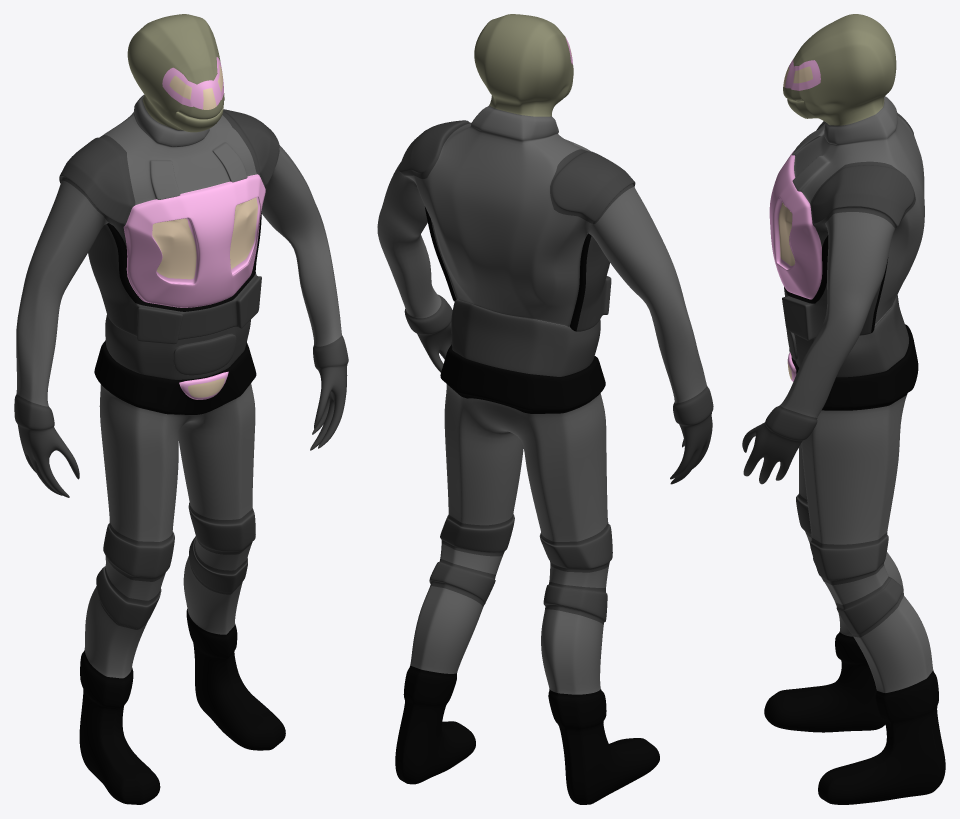
The model's file is P_ENEMY.fbx.
3 renders of one model, left to right at view 1: azimuth 30°, elevation 25°; view 2: azimuth 150°, elevation 25°; view 3: azimuth 270°, elevation 25°, orthographic. The views are drawn at different scales.
Parts seen in each view (by area): view 1: smooth; view 2: smooth; view 3: smooth.
Part boxes in pixels (x1=…): smooth: x1=14, y1=14, x2=348, y2=804; smooth: x1=377, y1=14, x2=713, y2=804; smooth: x1=742, y1=14, x2=945, y2=804.
Bounding box in the file's own units: 2 × 4.56 × 1.13.
